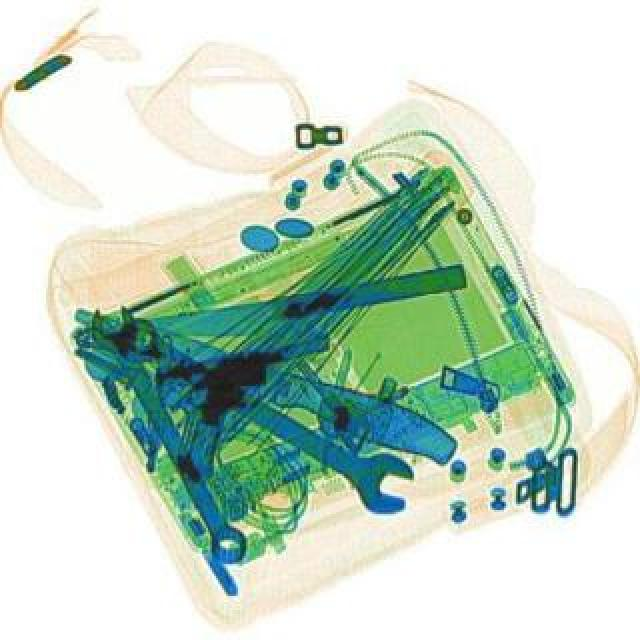gun: (150, 342, 350, 490)
knife: (124, 320, 464, 474), (106, 268, 468, 364)
scissors: (100, 306, 428, 530), (78, 302, 256, 574)
